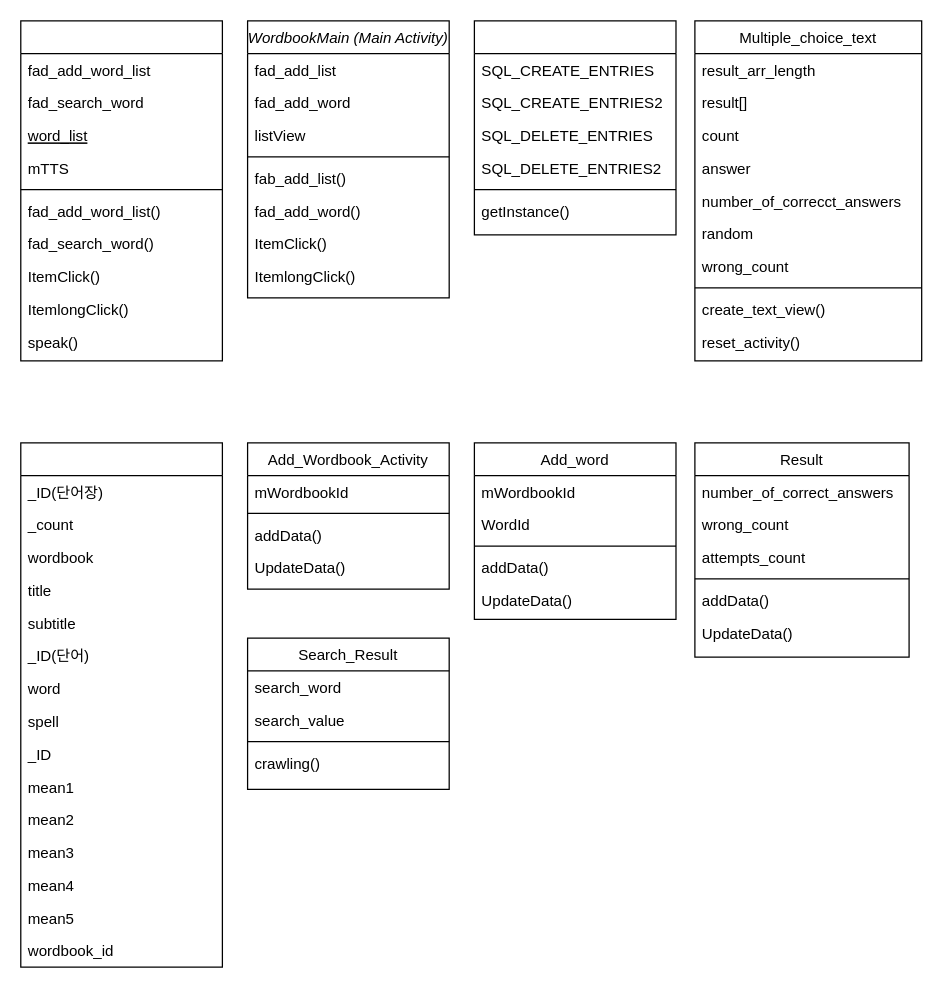
Some shapes in this 942 by 988 pixel diagram are drawn without their labels. The box of each missing label's shape, as (x1, y1, x2, y2) in pixels:
DbContract: (20, 442, 222, 967)
DbHelper: (473, 20, 676, 235)
WordMain: (20, 20, 222, 361)
